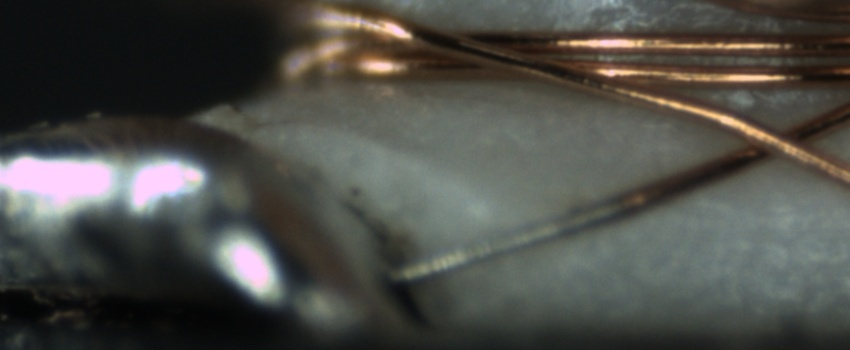CL: (723, 111, 826, 171)
DL: (654, 202, 850, 267)
TS: (391, 195, 629, 283)
